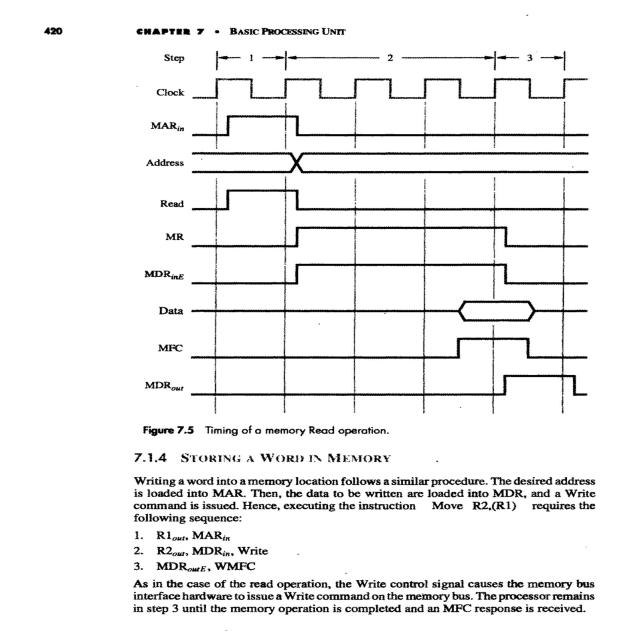diagram: (46, 43, 640, 440)
